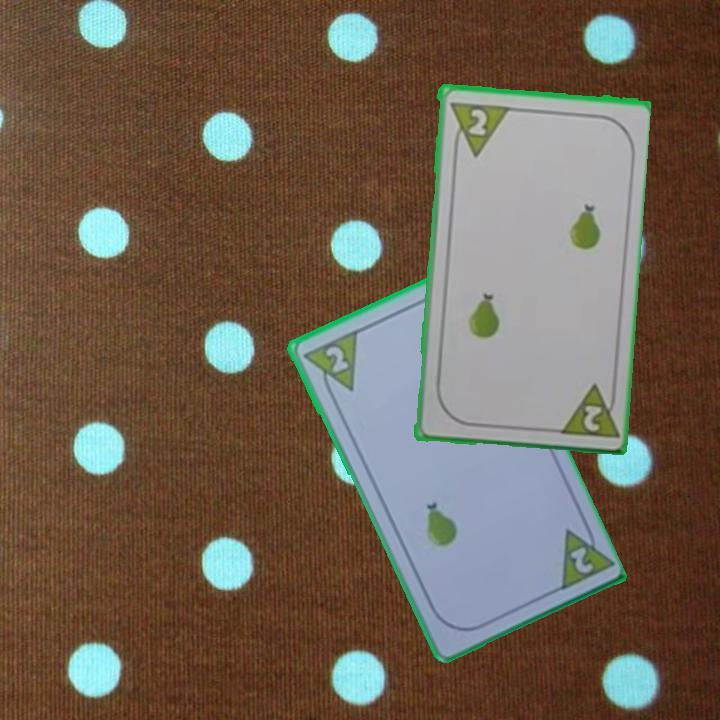2p: (298, 325, 360, 402), (554, 379, 619, 441), (445, 98, 509, 159), (566, 542, 596, 577)
